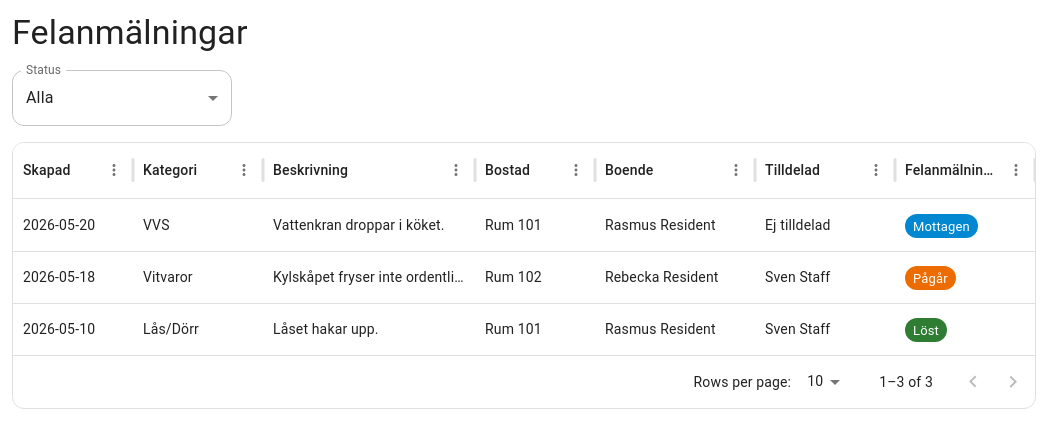
Test case: AdminMaintenancePage › filters by status
This screenshot has width=1048, height=426.
Expected: the text "Vattenkran droppar i köket." is shown, [273, 217, 445, 233]
Click the dropdown named "status": [40, 98] box [26, 88, 54, 108]
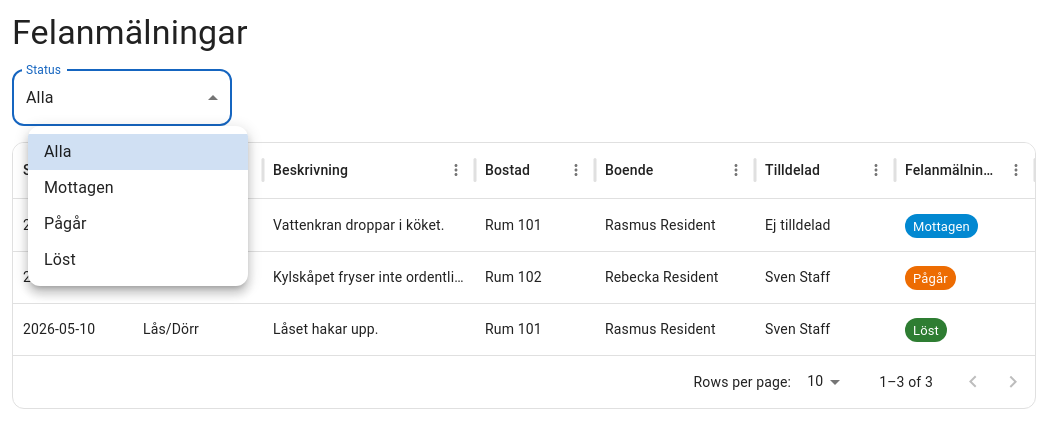
Click the option "Löst": [60, 260] box [44, 250, 76, 269]
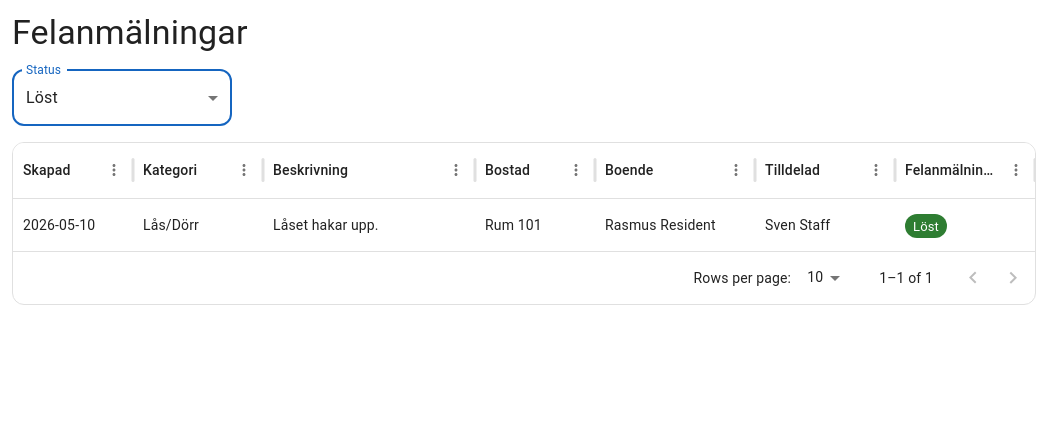
Expected: the text "Låset hakar upp." is shown, [273, 217, 379, 233]
Expected: the text "Vattenkran droppar" is gone
